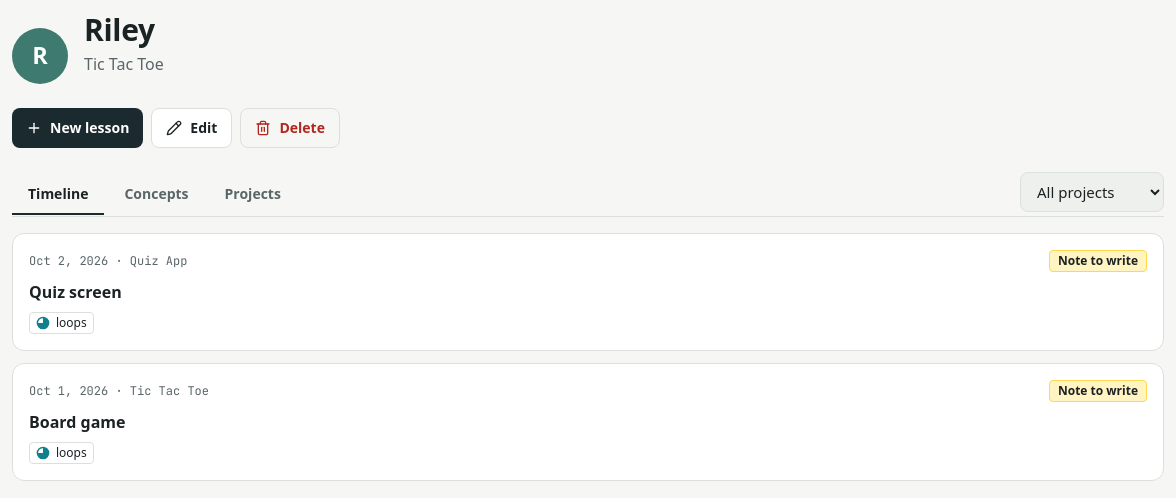
Test: StudentPage › marks the current tab and shows the projects with their state
Click the button "projects": {"x": 253, "y": 194} [209,174,297,214]
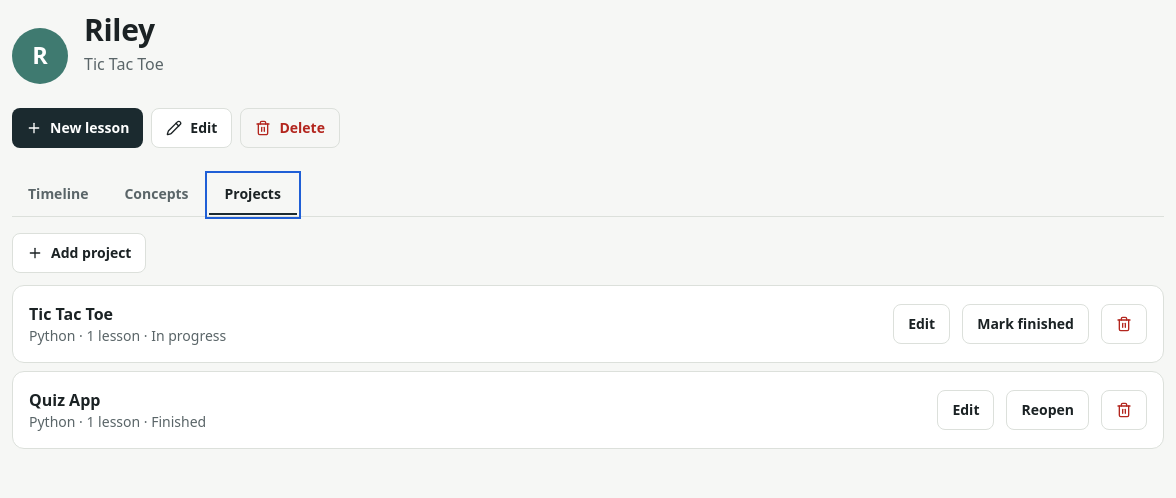
Now the text "Python · 1 lesson · In progress" is shown, box [29,326,226,345]
Now the text "Python · 1 lesson · Finished" is shown, box [29,412,206,431]
